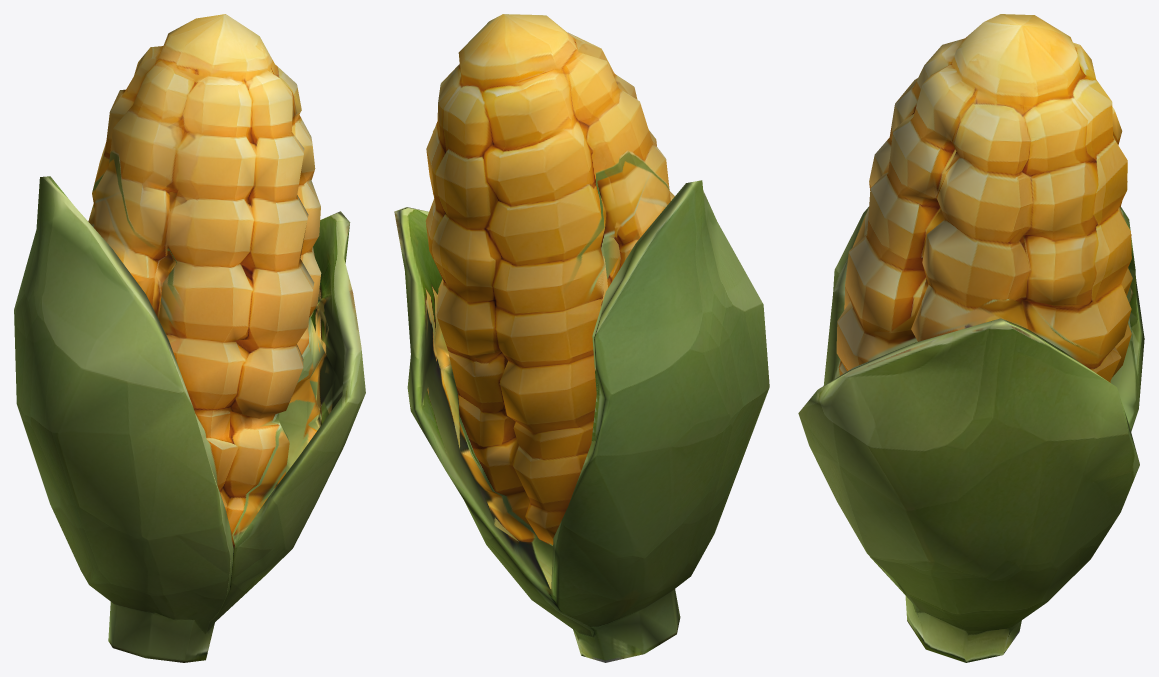
Rendered from Corn.fbx.
3 views of the same model, side by side, from view 1: azimuth 30°, elevation 25°; view 2: azimuth 150°, elevation 25°; view 3: azimuth 270°, elevation 25° (orthographic). The views are drawn at different scales.
Visible parts, largest first — view 1: texture_mapping; view 2: texture_mapping; view 3: texture_mapping.
Part boxes in pixels (box(x1,y1,x2,y2)): texture_mapping: box(14, 14, 365, 662); texture_mapping: box(394, 14, 769, 662); texture_mapping: box(798, 14, 1144, 662).
Bounding box in the file's own units: 0.5635 × 0.4743 × 1.
1 material, 1 textured.
